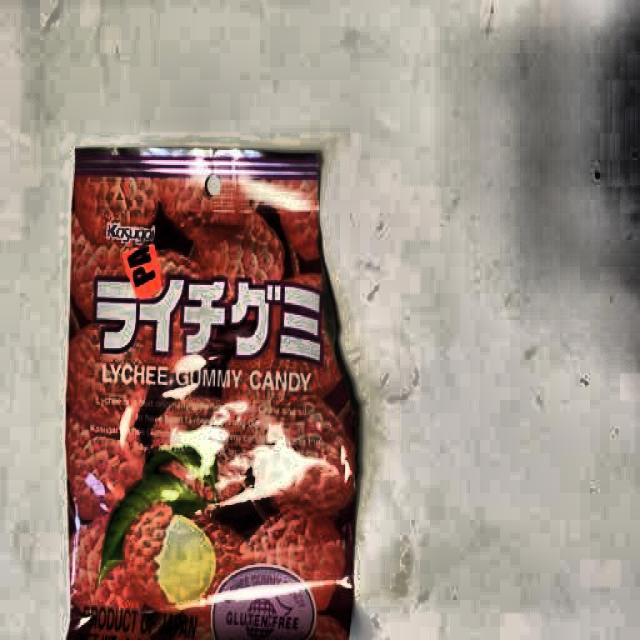plastic: (69, 141, 369, 640)
